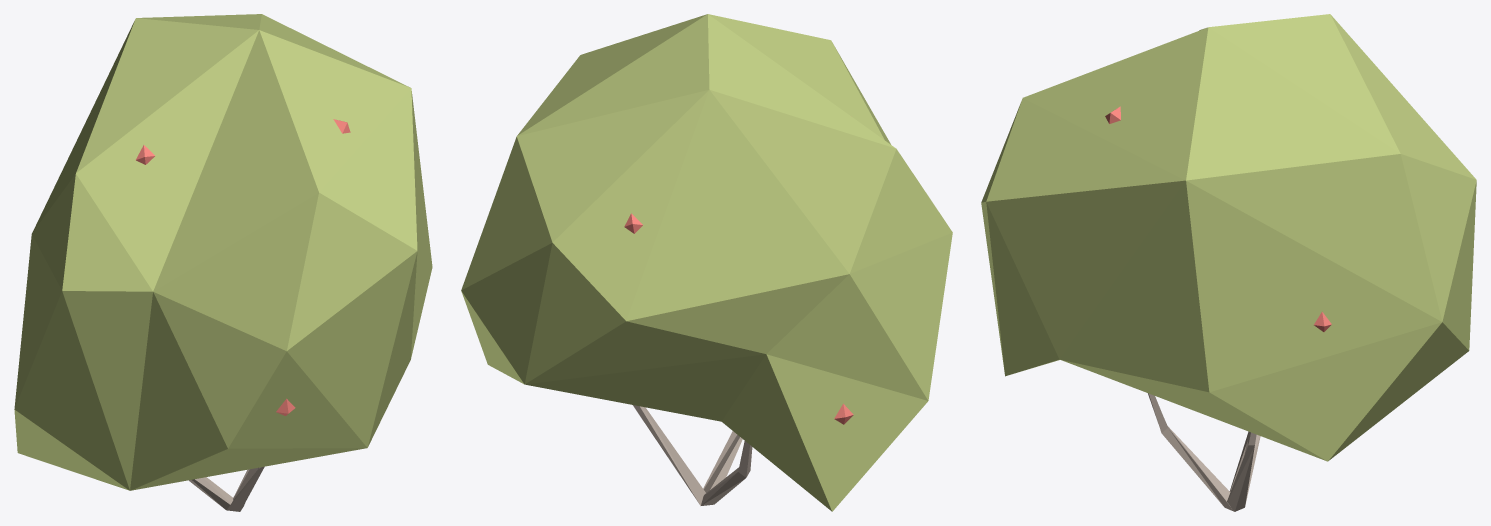
File: ArbutusUnedo.glb
3 renders of one model, left to right at view 1: azimuth 30°, elevation 25°; view 2: azimuth 150°, elevation 25°; view 3: azimuth 270°, elevation 25°, orthographic.
Visible parts, largest first — view 1: Crown, Trunk, Fruit; view 2: Crown, Trunk; view 3: Crown, Trunk.
Part boxes in pixels (x1=…): Crown: x1=14, y1=14, x2=432, y2=490; Trunk: x1=189, y1=466, x2=264, y2=511; Fruit: x1=136, y1=119, x2=350, y2=415; Crown: x1=461, y1=14, x2=952, y2=511; Trunk: x1=633, y1=405, x2=752, y2=505; Crown: x1=981, y1=14, x2=1476, y2=461; Trunk: x1=1148, y1=393, x2=1260, y2=511.
Bounding box in the file's own units: 6.48 × 7.36 × 6.8.
